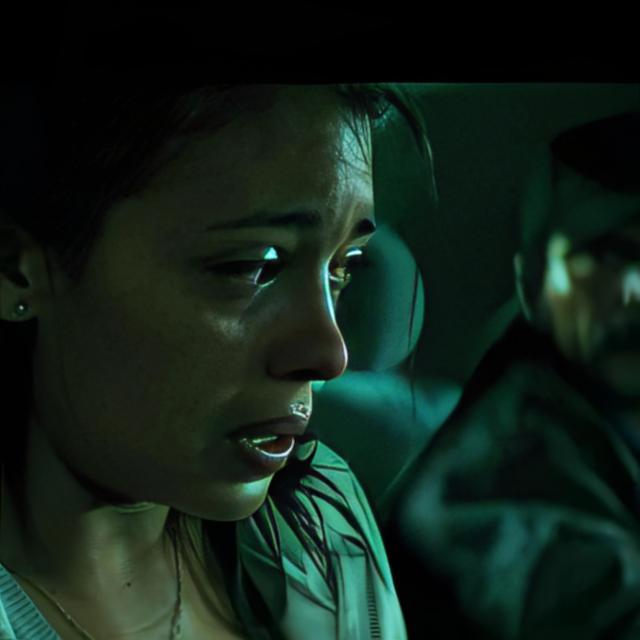sad: (42, 74, 382, 524)
